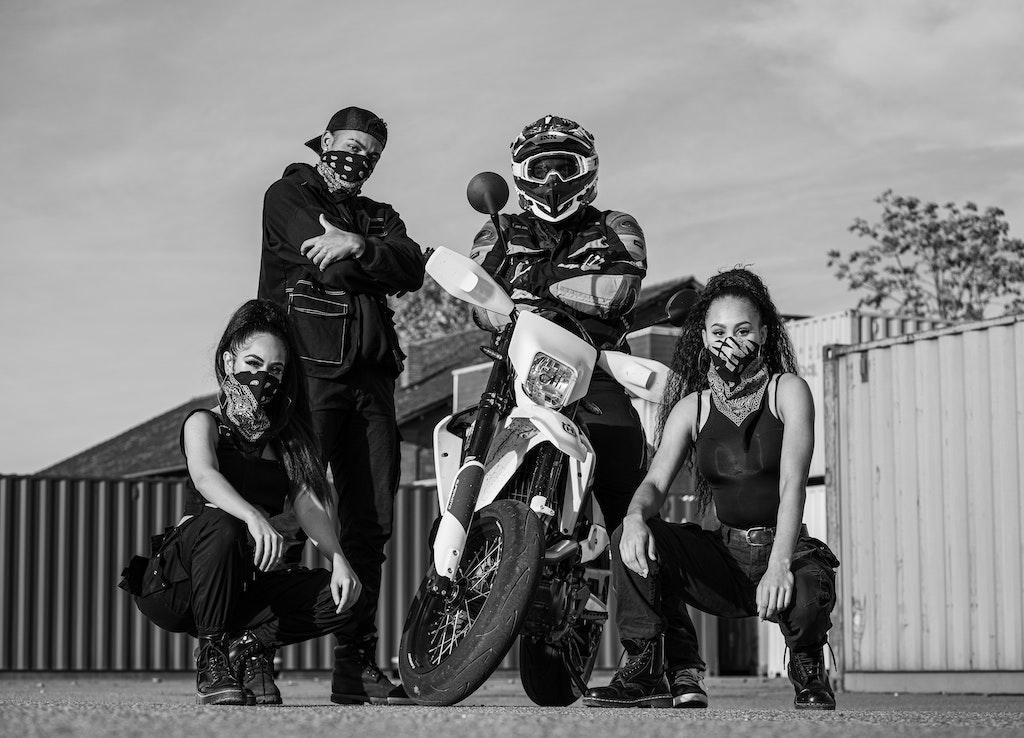helmet: (509, 114, 600, 226)
nohelmet: (679, 266, 790, 453), (214, 297, 294, 445), (304, 105, 389, 205)
